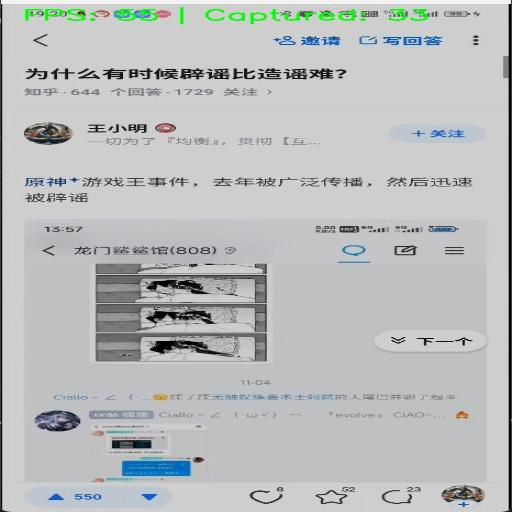back: (2, 28, 64, 54)
butten: (378, 328, 480, 352), (368, 484, 434, 510), (454, 31, 496, 52)
